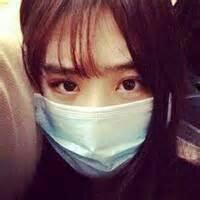OK: (41, 44, 170, 179)
